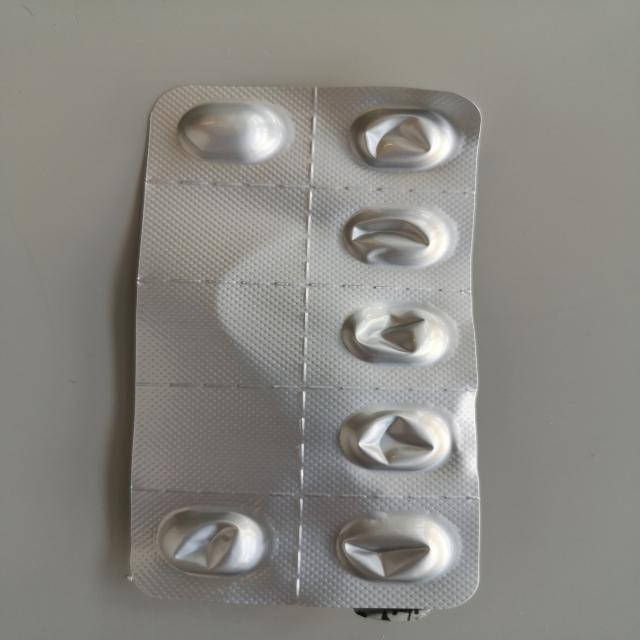Empty: (328, 510, 460, 585), (150, 504, 276, 578), (336, 300, 460, 371), (330, 401, 452, 472), (335, 201, 454, 271), (344, 105, 464, 173)
Pill: (171, 97, 292, 166)
